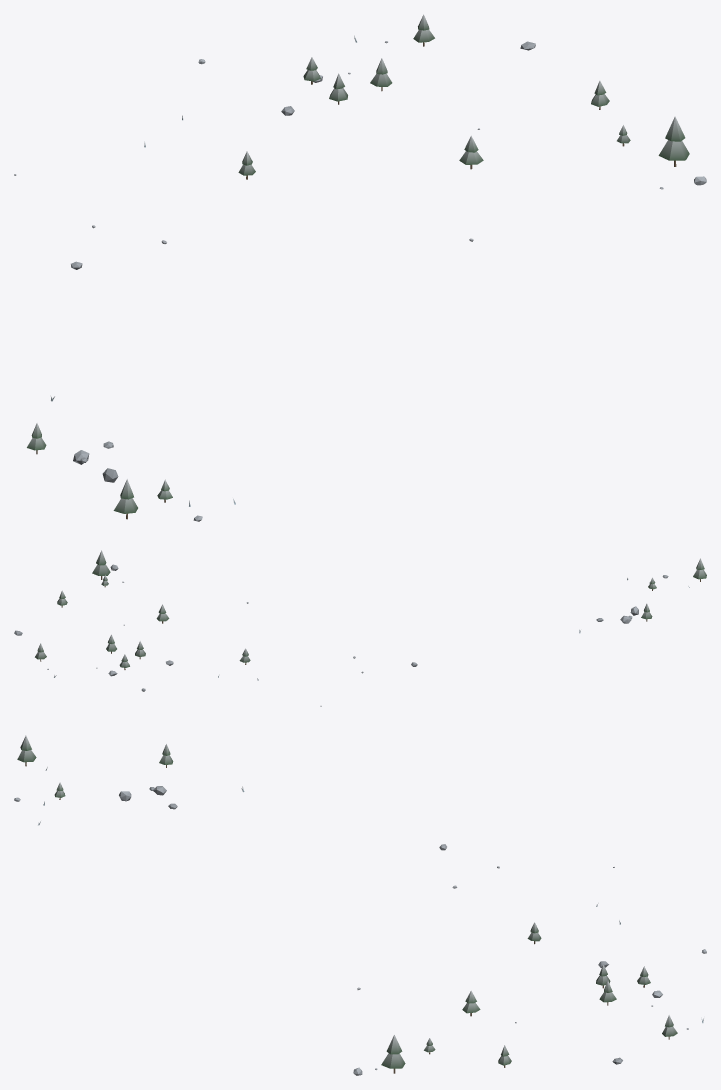
File: frost_land_scatter_c22_09_lod1.glb
3 renders of one model, top to bottom at view 1: azimuth 30°, elevation 25°; view 2: azimuth 150°, elevation 25°; view 3: azimuth 270°, elevation 25°, orthographic. The views are drawn at different scales.
Parts seen in each view (by area): view 1: frost_land_scatter_c22_09_lod1; view 2: frost_land_scatter_c22_09_lod1; view 3: frost_land_scatter_c22_09_lod1.
Part boxes in pixels (x1=…): frost_land_scatter_c22_09_lod1: x1=14, y1=14, x2=706, y2=521; frost_land_scatter_c22_09_lod1: x1=14, y1=550, x2=706, y2=706; frost_land_scatter_c22_09_lod1: x1=14, y1=735, x2=706, y2=1075.
Size of the model in its own units: 260 by 19.04 by 250.
